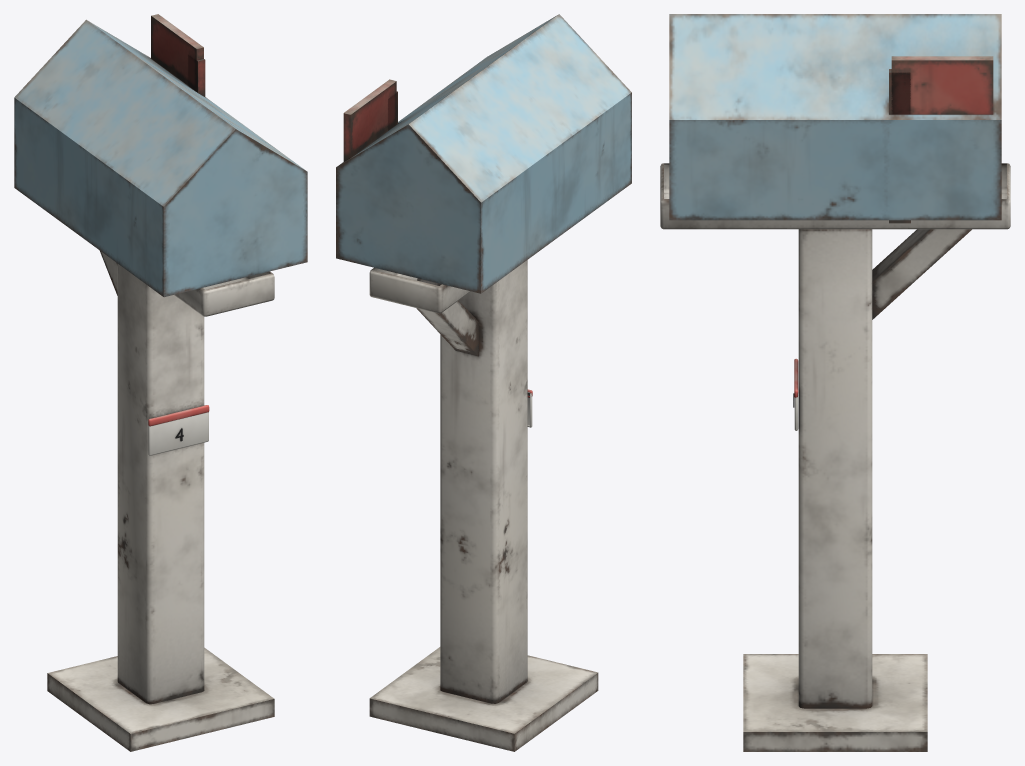
File: mailbox.fbx
The picture shows the model from 3 angles, left to right: view 1: azimuth 30°, elevation 25°; view 2: azimuth 150°, elevation 25°; view 3: azimuth 270°, elevation 25°; orthographic projection. The views are drawn at different scales.
Parts seen in each view (by area): view 1: Body; view 2: Body; view 3: Body.
Boxes of the visible parts, x1,y1,x2,y2 form: Body: (14,14,307,751); Body: (336,14,631,751); Body: (660,14,1010,751).
Size of the model in its own units: 1 by 4.18 by 1.9.
Materials: 1 (1 with a texture image).
